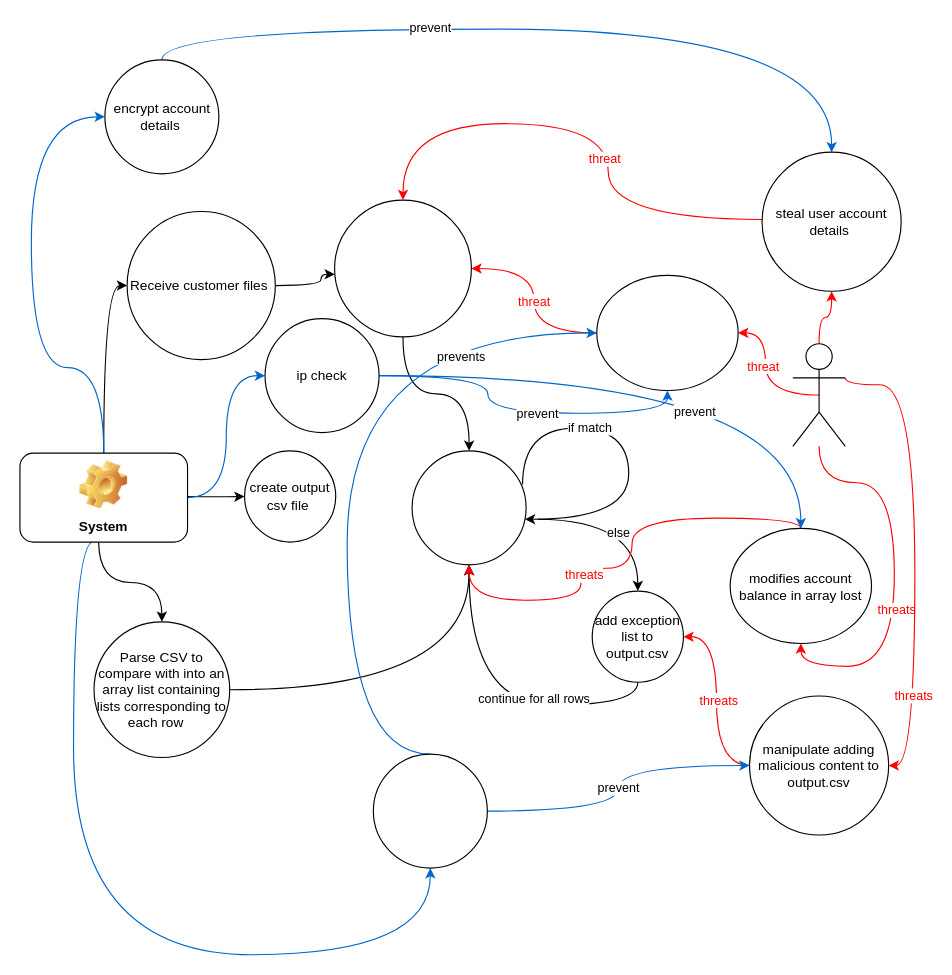
Some shapes in this 952 by 975 pixel diagram are drawn without their labels. Each missing label, with the centre of its shape:
blocks parsing csv to array list: the point at 667,332
Compare both array lists row by row: the point at 468,507
Malicious User: the point at 818,394
Parse CSV into array list containing lists corresponding to each row: the point at 402,268
periodic network scan: the point at 429,810
